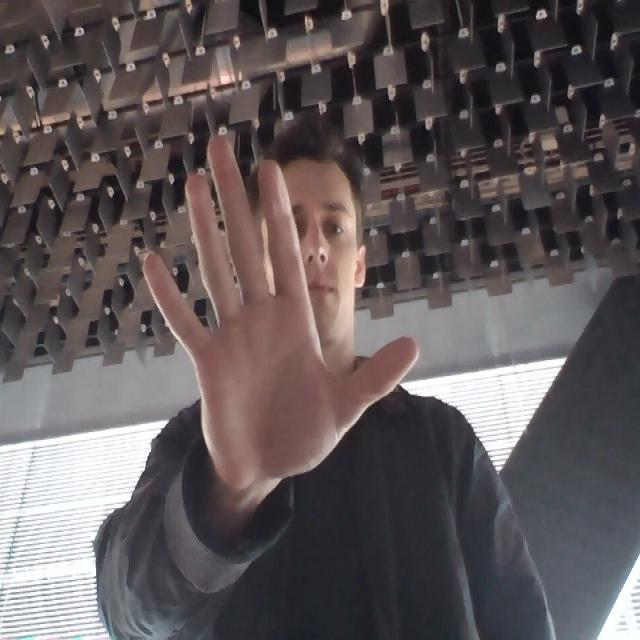backward: (136, 112, 397, 481)
